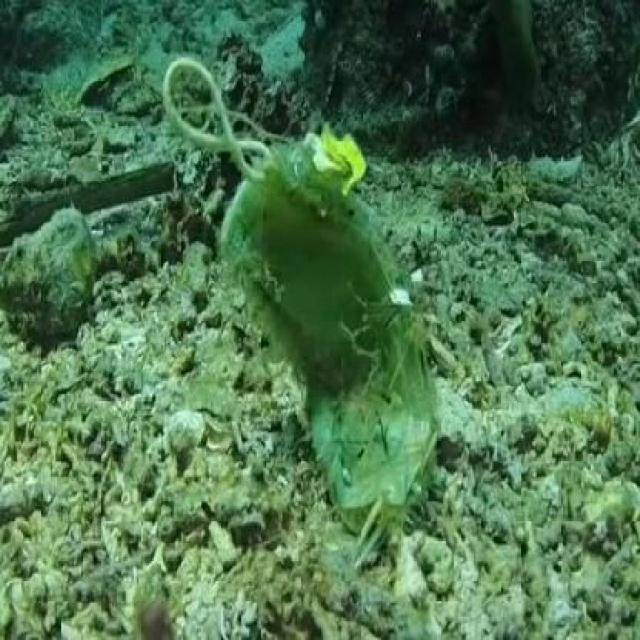Mask: (161, 56, 445, 578)
